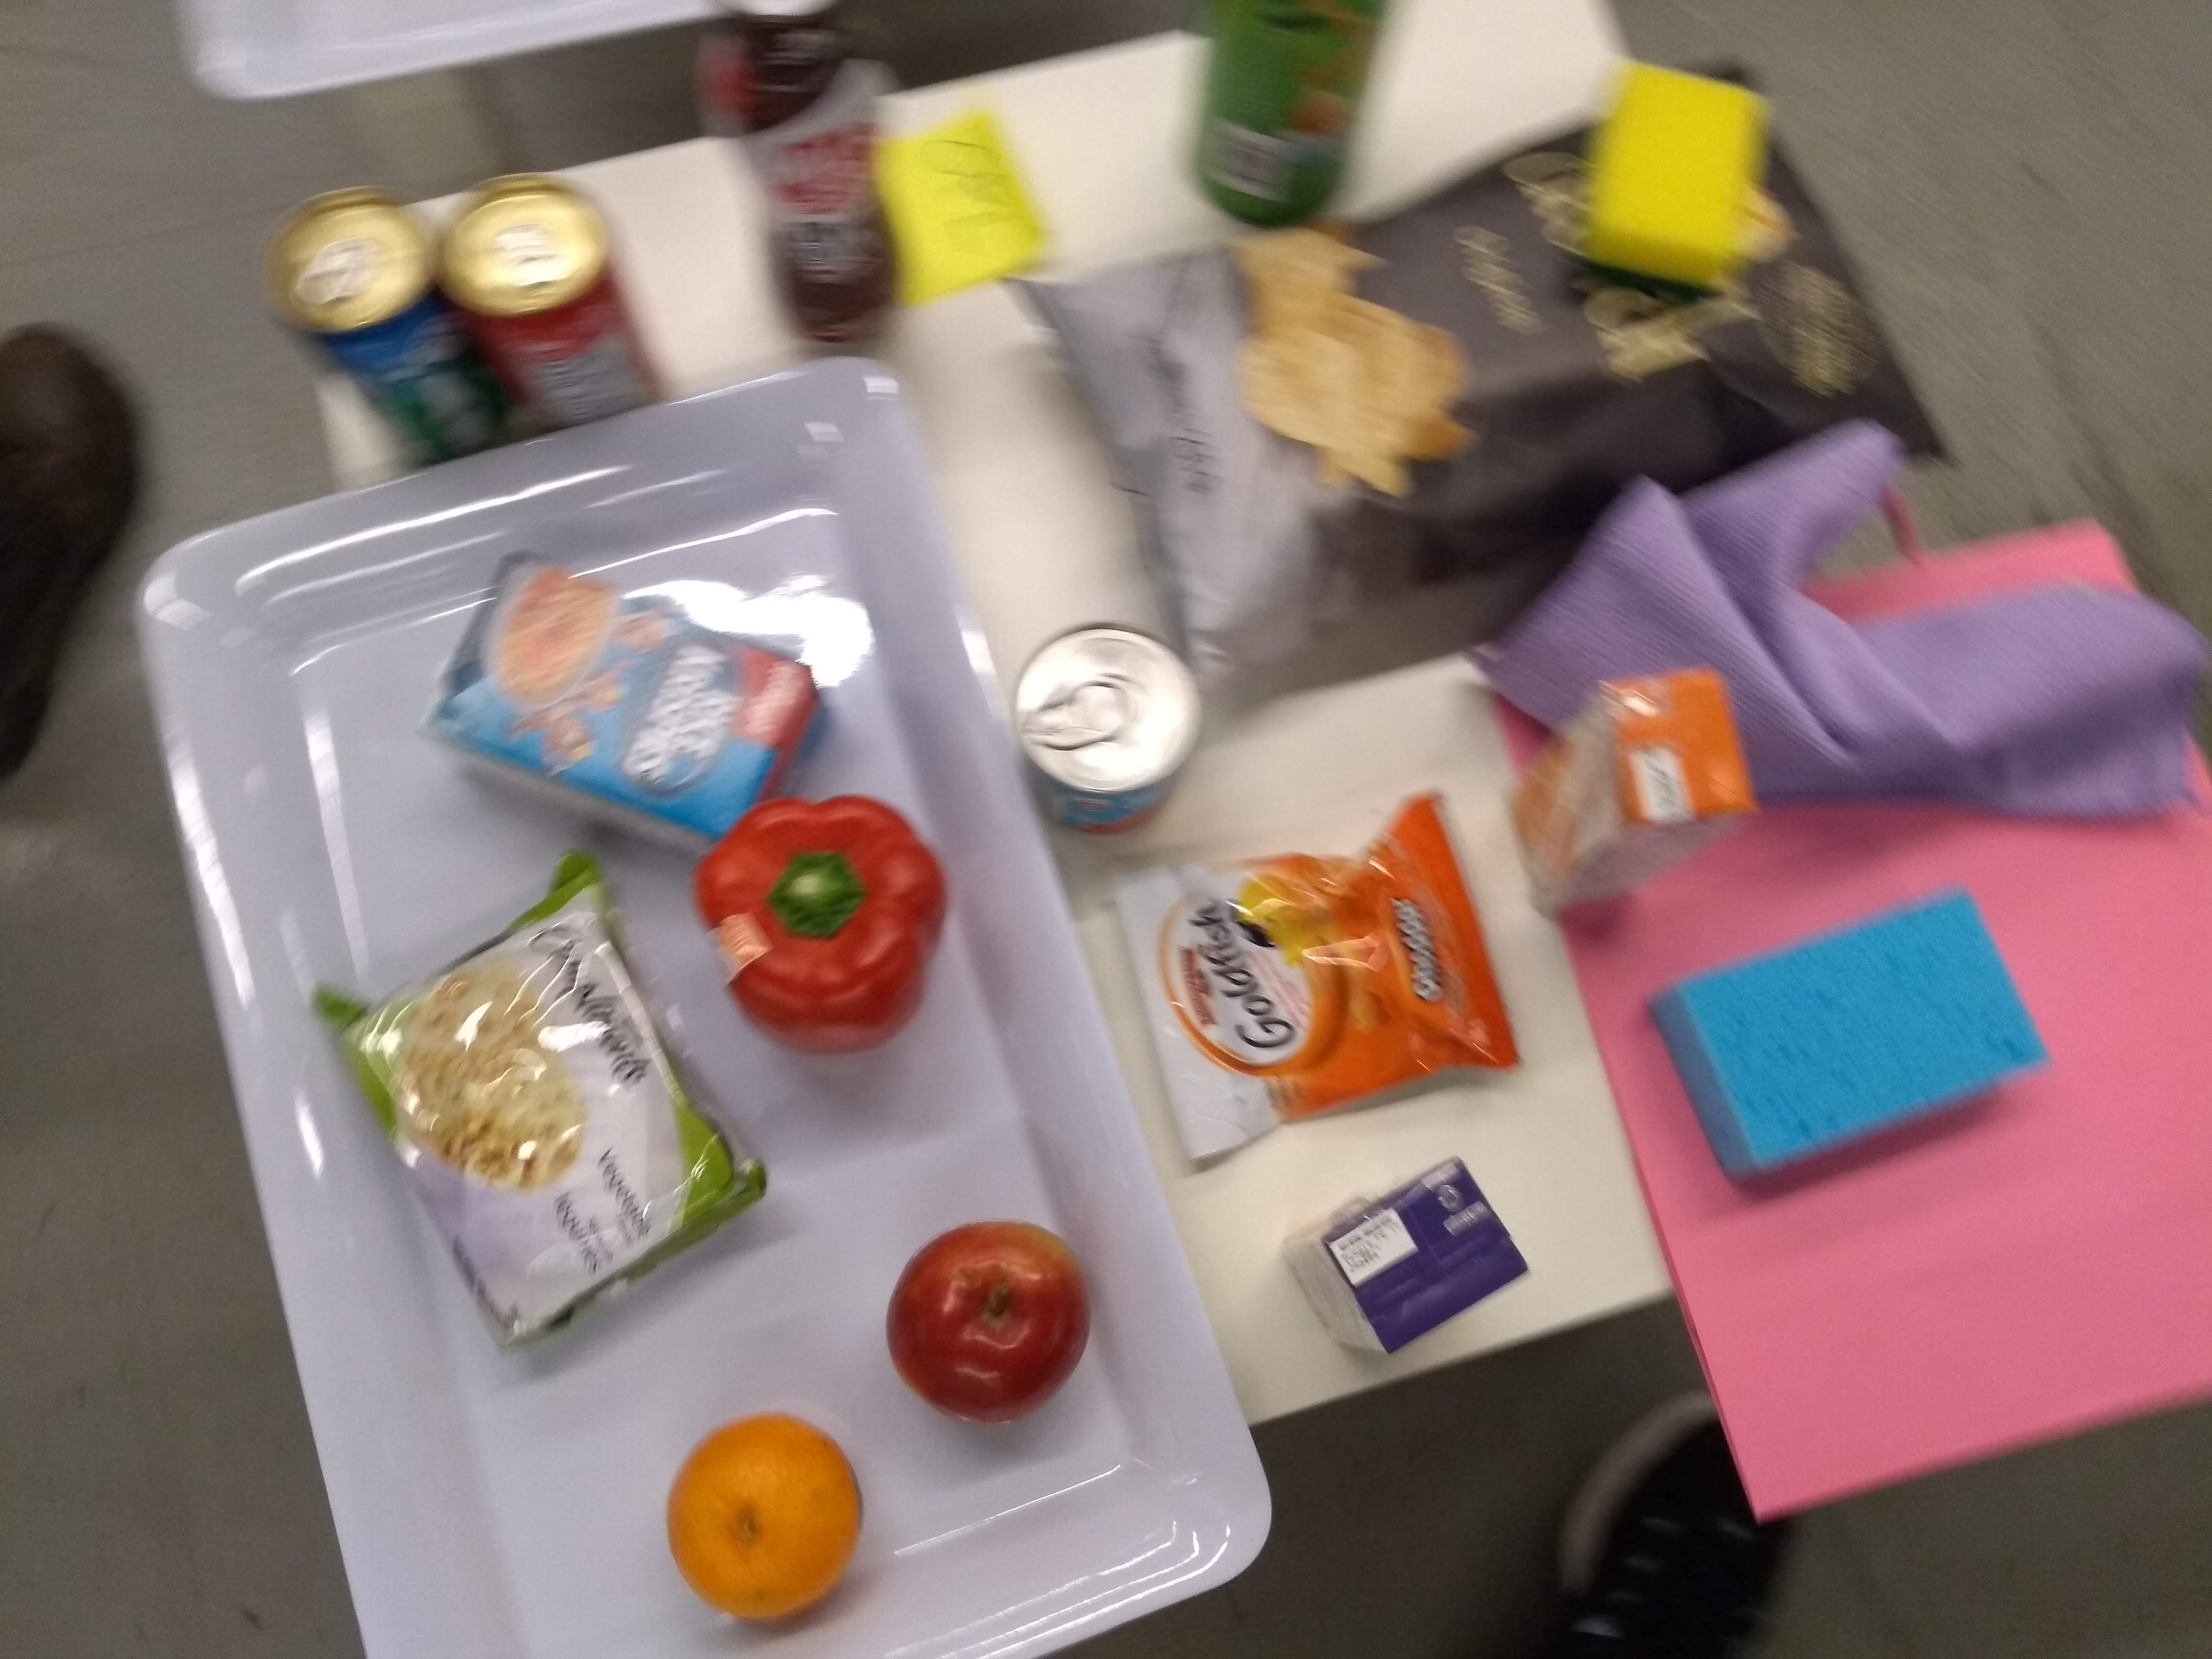apple: (874, 1213, 1103, 1427)
cereal: (418, 544, 820, 868)
chocolate_drink: (709, 0, 916, 364)
cloth_opl: (1460, 422, 2209, 838)
coke: (428, 171, 679, 432)
crackers: (1113, 786, 1526, 1175)
grape_juice: (1271, 1148, 1545, 1370)
noodles: (312, 852, 775, 1385)
orange: (653, 1401, 876, 1642)
orange_juice: (1529, 660, 1764, 924)
paprika: (693, 786, 967, 1066)
sausages: (998, 615, 1211, 843)
scrubby: (1571, 51, 1773, 310)
sponge_opl: (1627, 873, 2060, 1204)
sprite: (246, 181, 517, 481)
